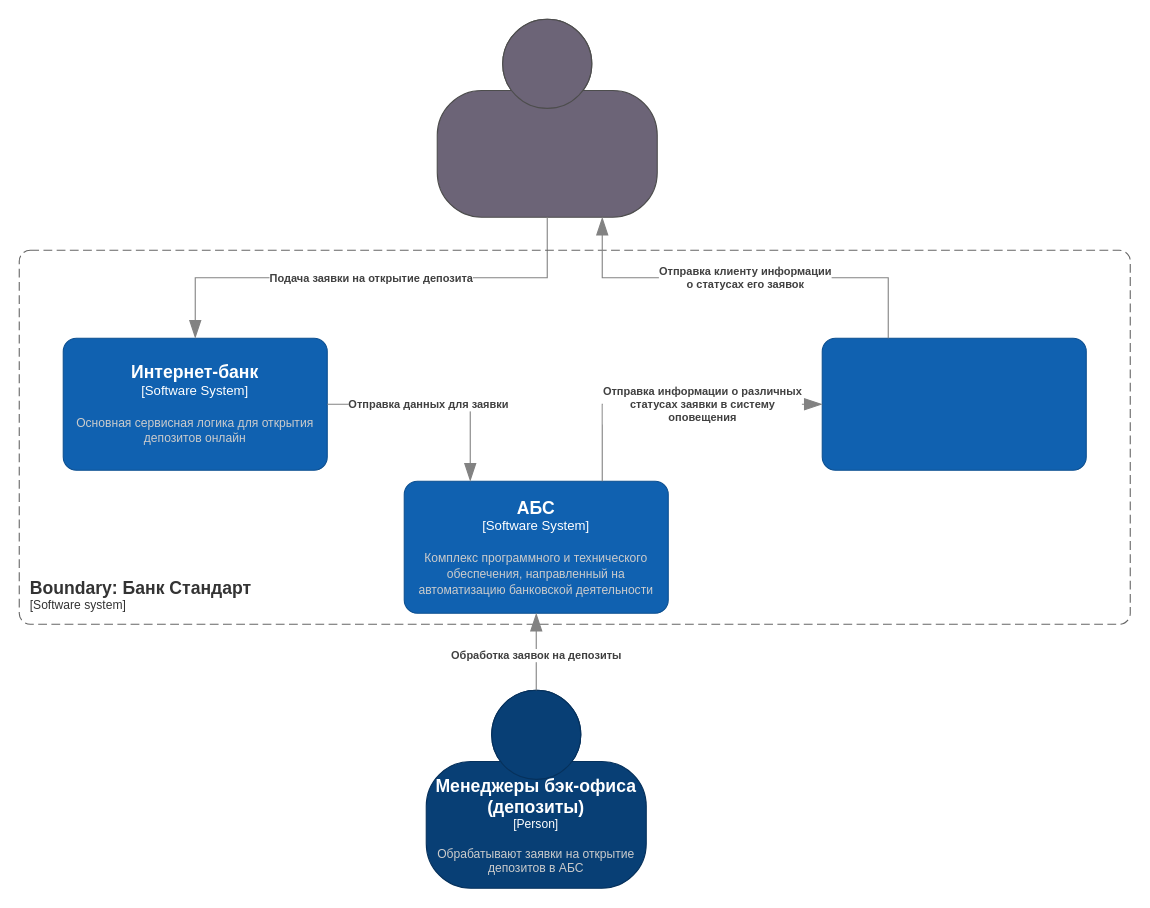
Some shapes in this 1150 by 908 pixel diagram are drawn without their labels. Here are the shapes that lost their labels. From the top down, the centre of each, then its label:
the point at 546,117: Клиент банка [Person]
the point at 953,403: Система уведомлений [Software System] Система оповещения клиентов интернет банка
